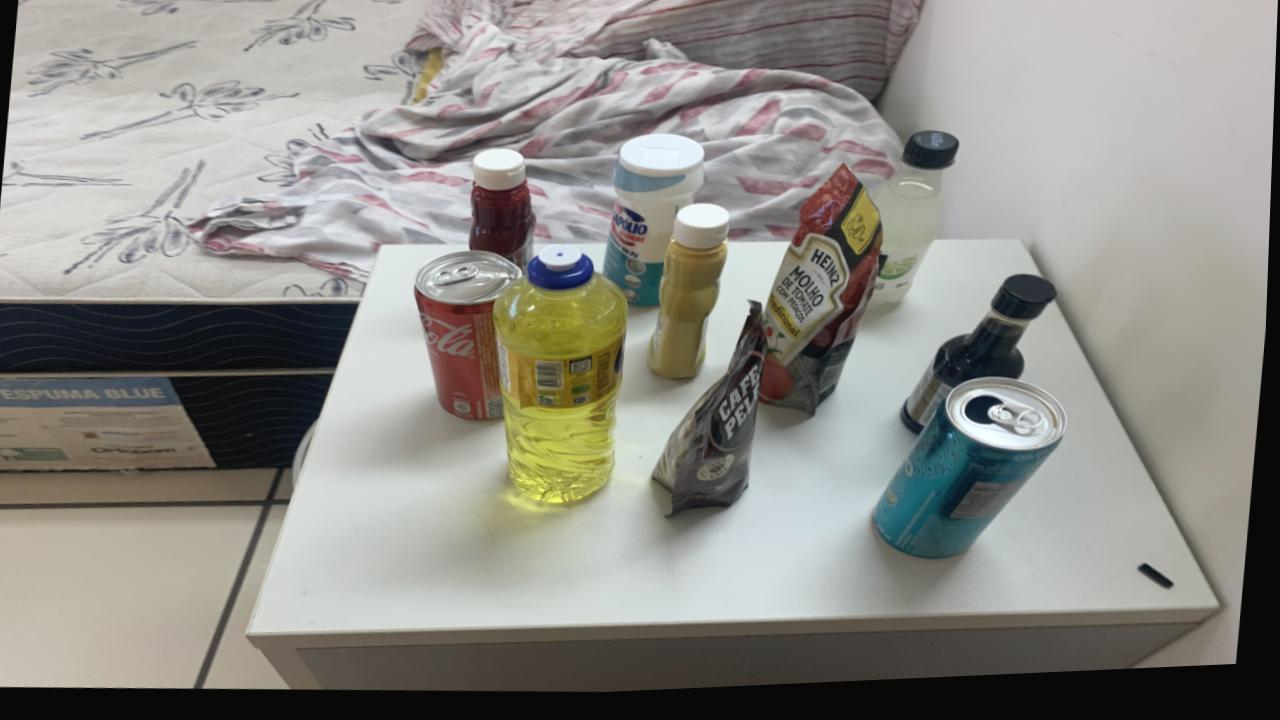Cleaner-Cleanup_Items: (604, 139, 706, 312)
Coffee-Pantry_Items: (655, 308, 769, 521), (415, 254, 524, 425)
Detergent-Cleanup_Items: (495, 250, 629, 508)
English_Sauce-Pantry_Items: (904, 284, 1059, 440)
Ketchup-Pantry_Items: (470, 153, 537, 274)
Mustard-Pantry_Items: (649, 211, 731, 384)
Soda-Drinks: (871, 140, 959, 316)
Tea-Drinks: (876, 387, 1069, 567)
Tomato_Sauce-Pantry_Items: (761, 172, 885, 424)
